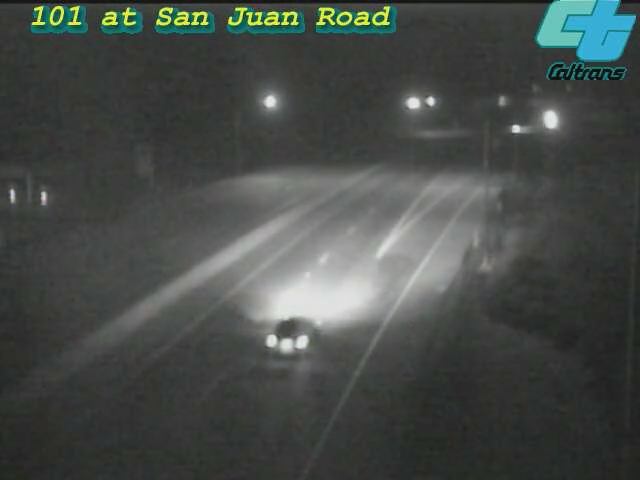vehicle: (239, 276, 349, 386), (494, 104, 544, 154), (527, 93, 577, 143)
